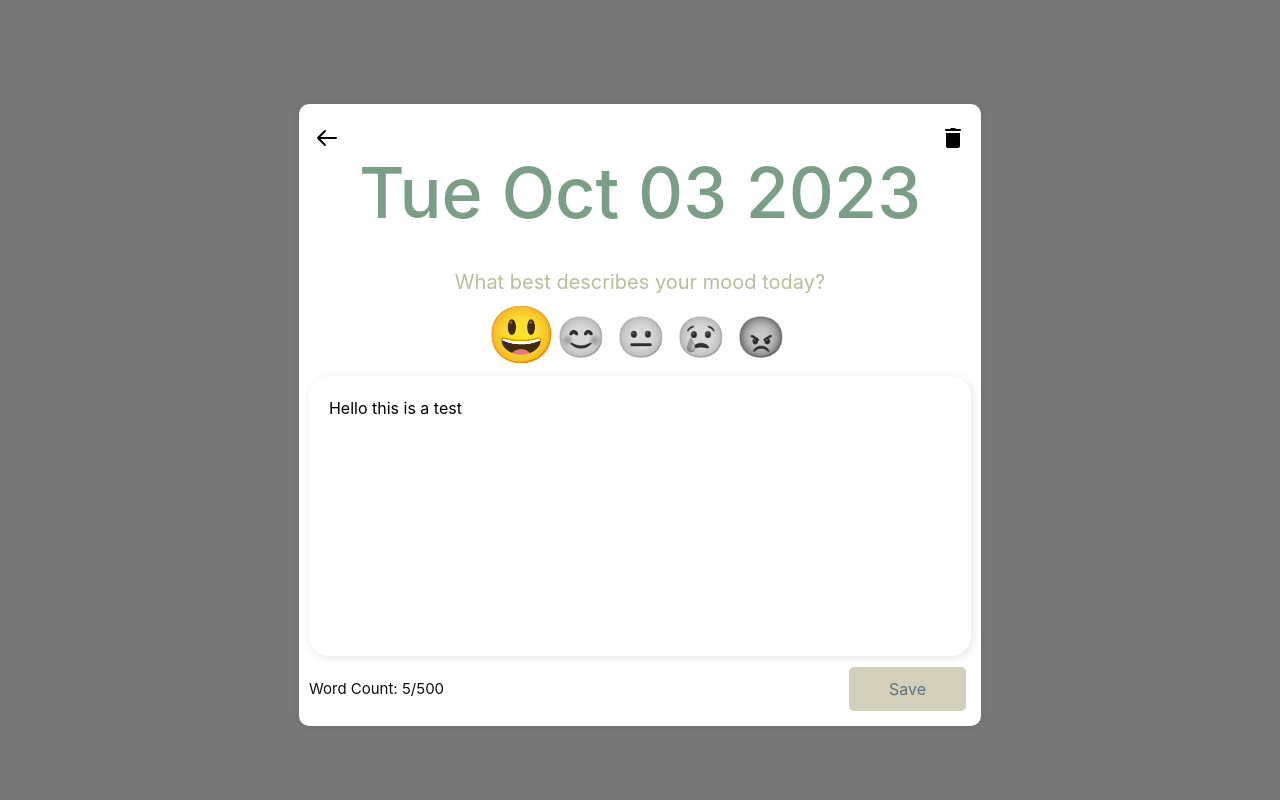
Scenario: Journal Entry Popup CRUD › deletes a journal using the delete button
Note: Find and click the delete button
Step 1. Click the button named "delete journal" → (953,138), box left=935, top=124, right=971, bottom=151
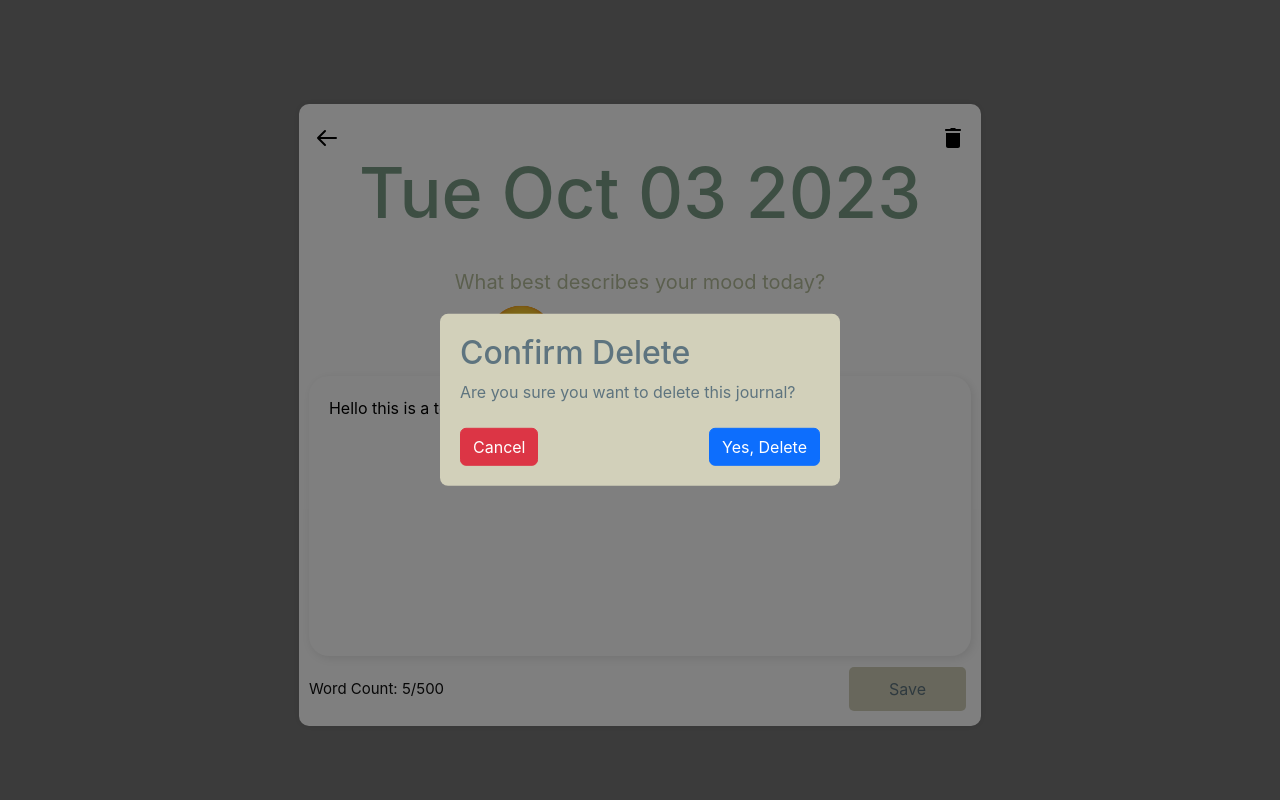
Note: Wait for the confirmation modal to appear and confirm deletion
Step 2. Click the button "Yes, Delete" → (764,447), box left=709, top=428, right=820, bottom=466
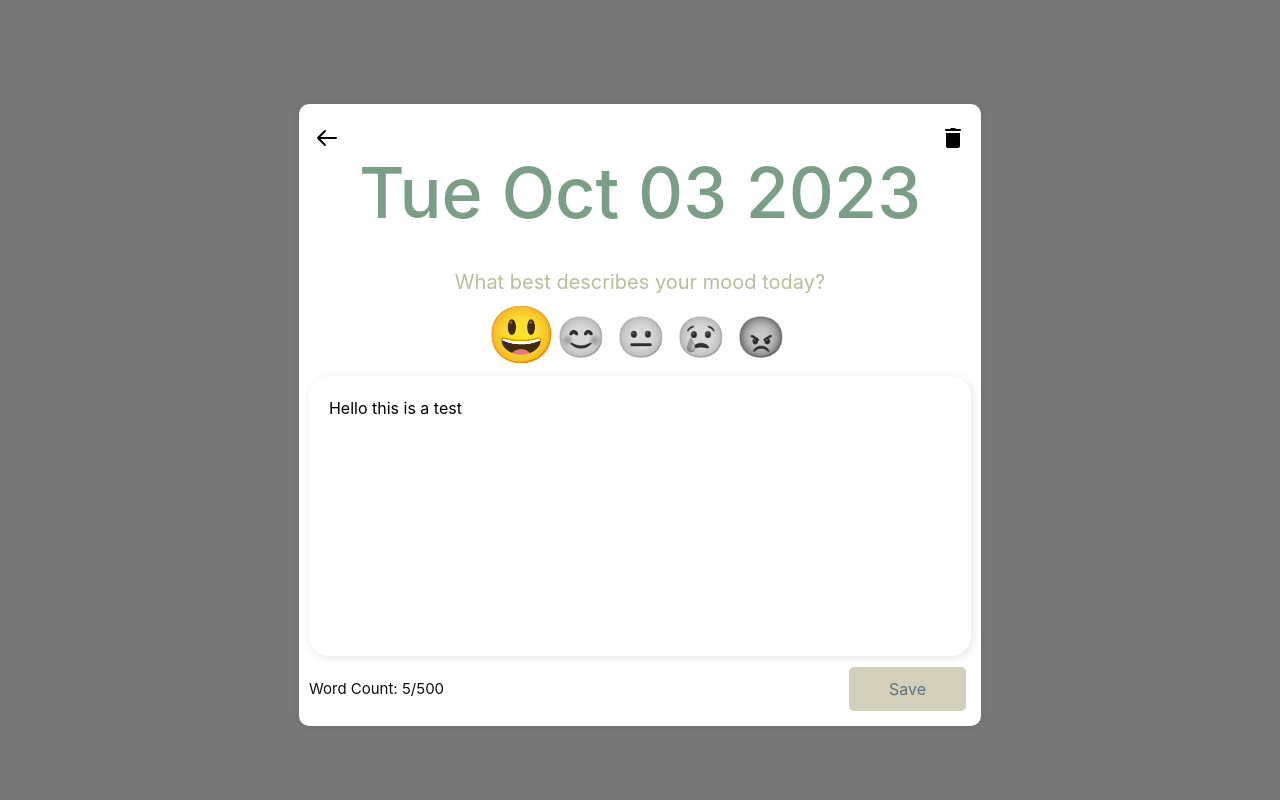
Expected: the heading "Confirm Delete" is gone
